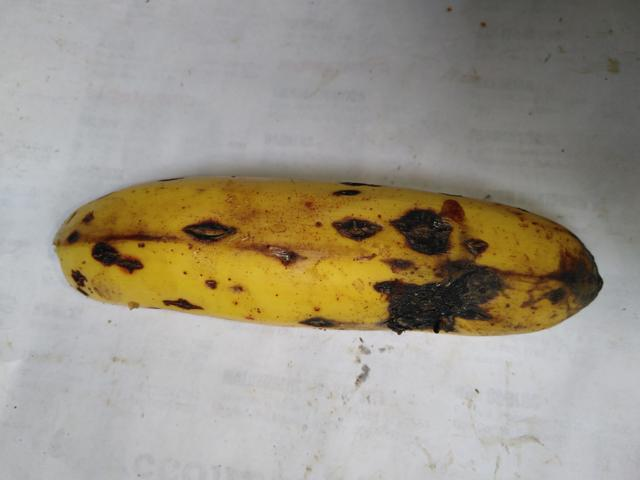rotten: (361, 209, 506, 341), (548, 216, 635, 350), (69, 217, 147, 308), (314, 164, 384, 257), (145, 189, 239, 255), (150, 281, 218, 323), (267, 238, 312, 281)
